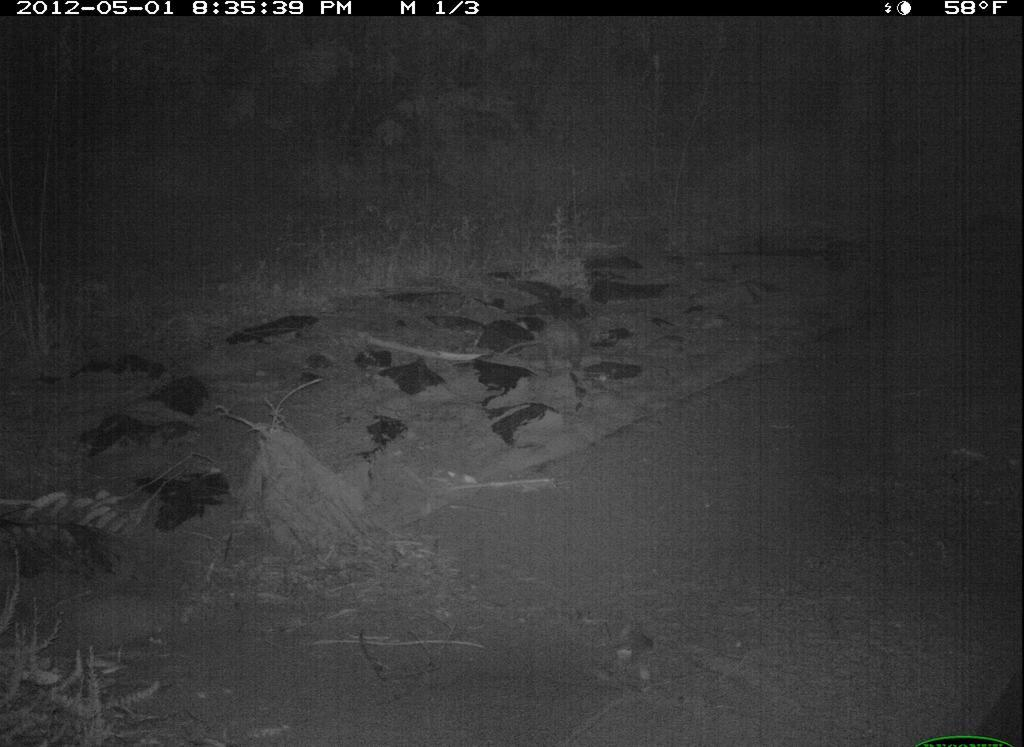opossum: (478, 300, 600, 377)
